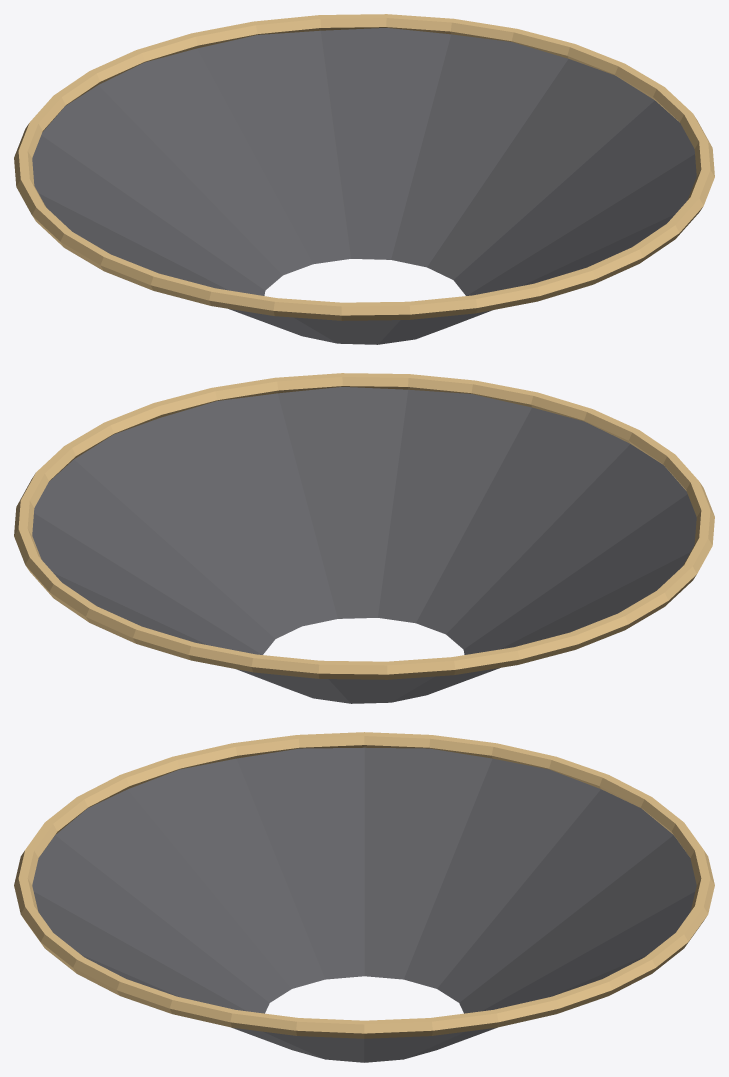
The model's file is Funnel.fbx.
3 views of the same model, one above another, from view 1: azimuth 30°, elevation 25°; view 2: azimuth 150°, elevation 25°; view 3: azimuth 270°, elevation 25° (orthographic).
Visible parts, largest first — view 1: Funnel; view 2: Funnel; view 3: Funnel.
Boxes of the visible parts, bbox=[...] form: Funnel: bbox=[14, 14, 714, 344]; Funnel: bbox=[14, 373, 714, 703]; Funnel: bbox=[14, 732, 714, 1062].
Bounding box in the file's own units: 6.16 × 1.37 × 6.16.
